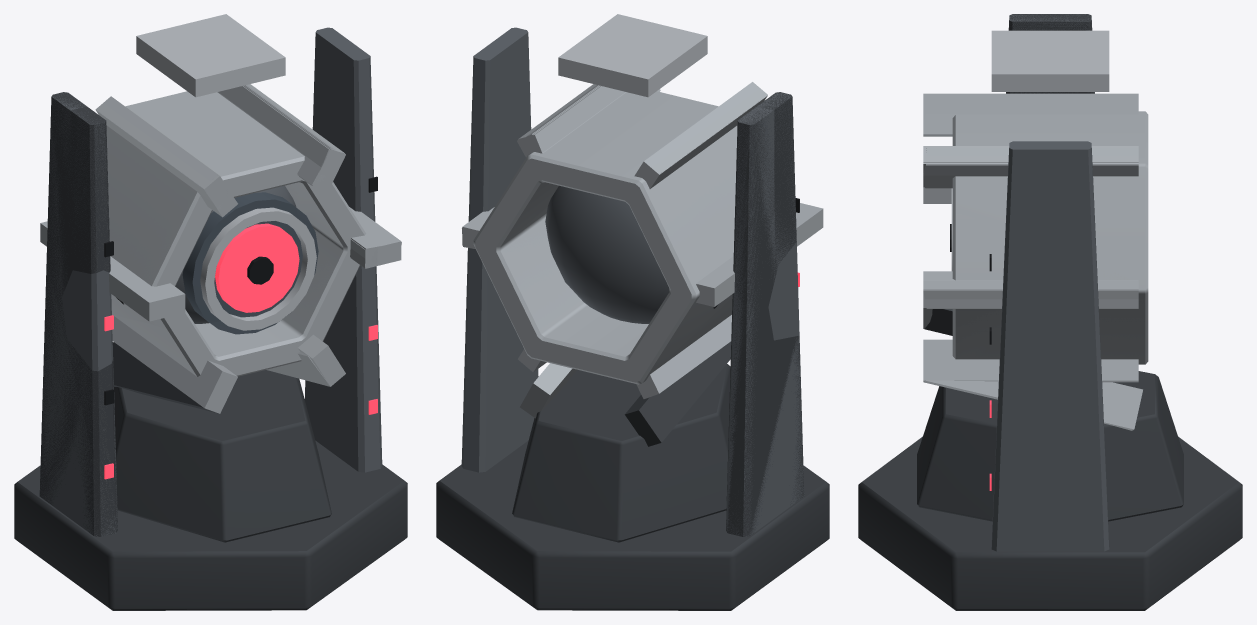
File: cvt_cmp_surveillance_core_a.glb
3 renders of one model, left to right at view 1: azimuth 30°, elevation 25°; view 2: azimuth 150°, elevation 25°; view 3: azimuth 270°, elevation 25°, orthographic.
Visible parts, largest first — view 1: mesh_heavy, mesh_intact, mesh_light; view 2: mesh_heavy, mesh_intact, mesh_light; view 3: mesh_heavy, mesh_intact, mesh_light.
Boxes of the visible parts, <box> form: mesh_heavy: <box>14,14,407,610</box>; mesh_intact: <box>39,27,401,536</box>; mesh_light: <box>40,14,401,536</box>; mesh_heavy: <box>436,14,829,610</box>; mesh_intact: <box>462,30,823,533</box>; mesh_light: <box>462,14,804,536</box>; mesh_heavy: <box>858,14,1242,610</box>; mesh_intact: <box>923,14,1145,551</box>; mesh_light: <box>923,14,1138,308</box>.
Bounding box in the file's own units: 0.7 × 1.1 × 0.7846.
